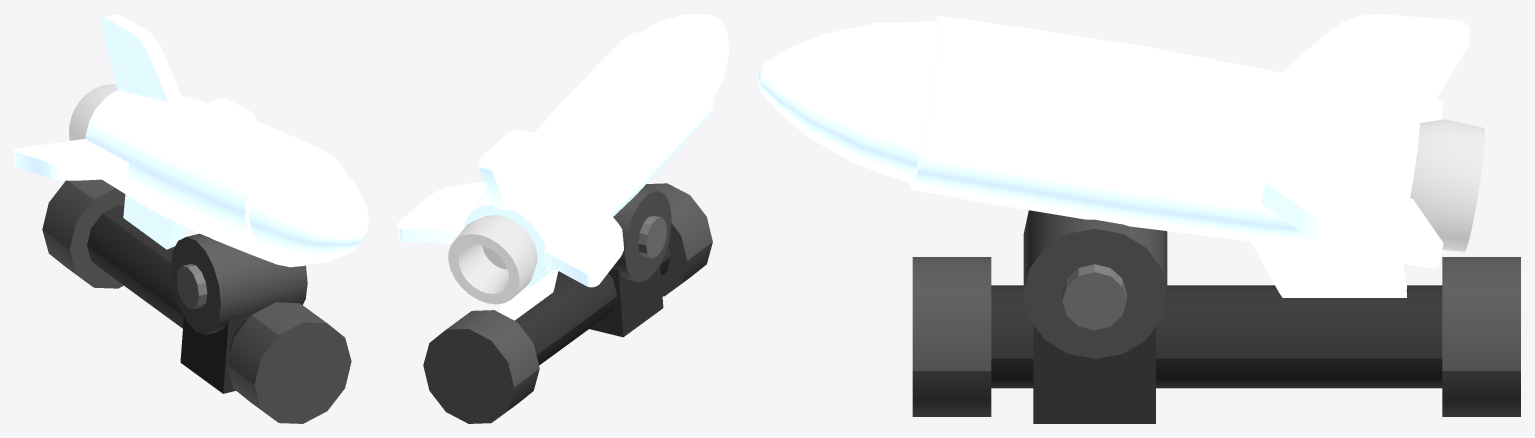
File: metal.glb
The picture shows the model from 3 angles, left to right: view 1: azimuth 30°, elevation 25°; view 2: azimuth 150°, elevation 25°; view 3: azimuth 270°, elevation 25°; orthographic projection. The views are drawn at different scales.
Visible parts, largest first — view 1: rocket, metal; view 2: rocket, metal; view 3: rocket, metal.
Part boxes in pixels (<box>): rocket: <box>14,14,368,267</box>; metal: <box>42,179,351,423</box>; rocket: <box>397,14,728,320</box>; metal: <box>423,183,712,423</box>; rocket: <box>757,14,1484,297</box>; metal: <box>912,210,1520,423</box>.
Size of the model in its own units: 0.59 by 0.7208 by 1.28.
Materials: 3 (2 with a texture image).
